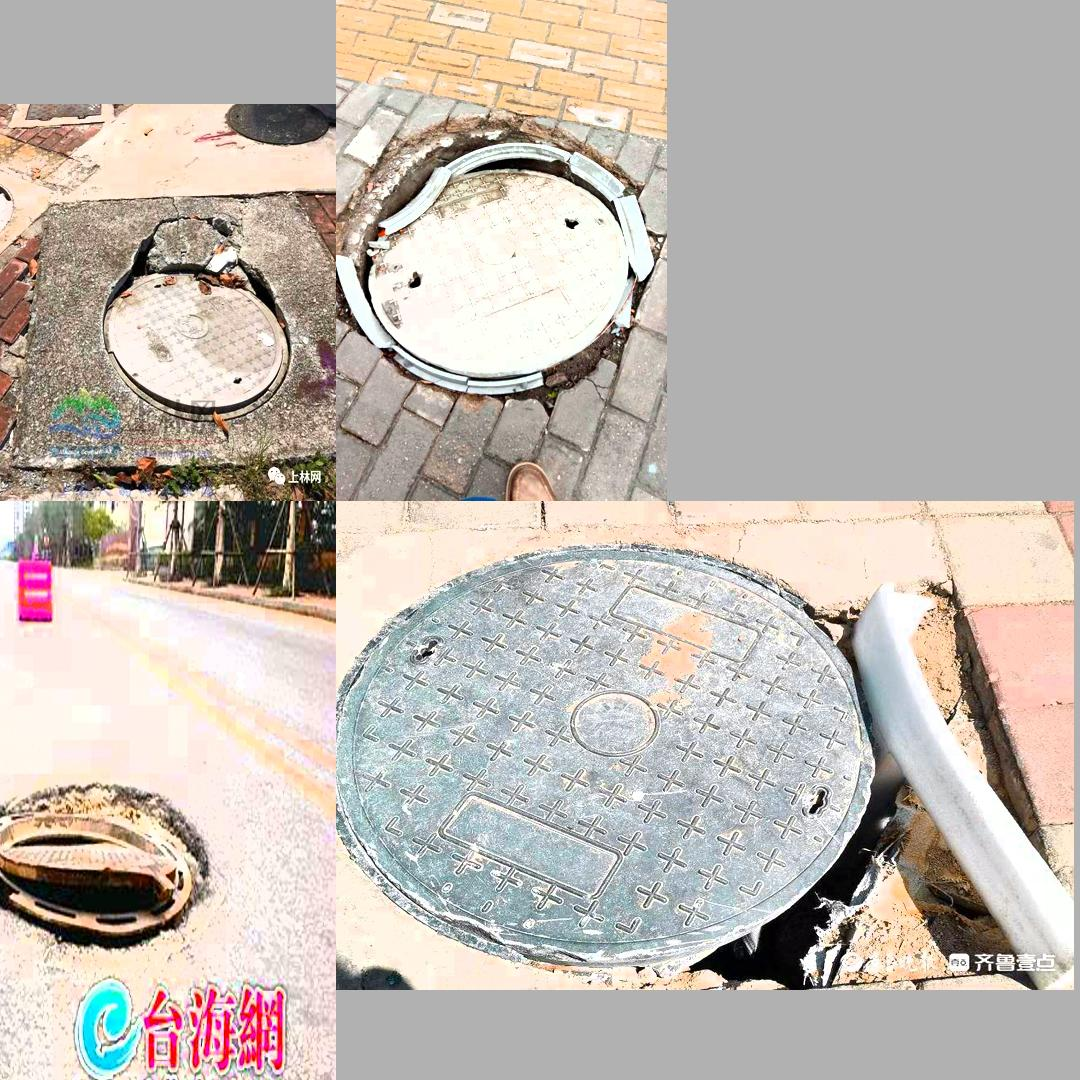circle: (348, 546, 1016, 976), (339, 114, 661, 409), (5, 182, 333, 470), (0, 763, 245, 986)
